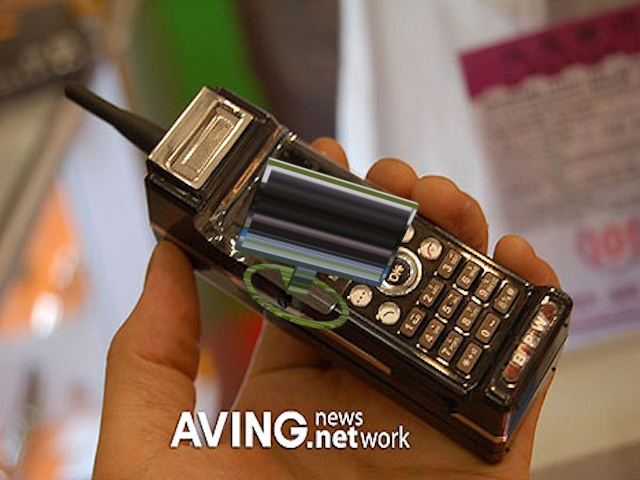monitor: (225, 153, 432, 337)
